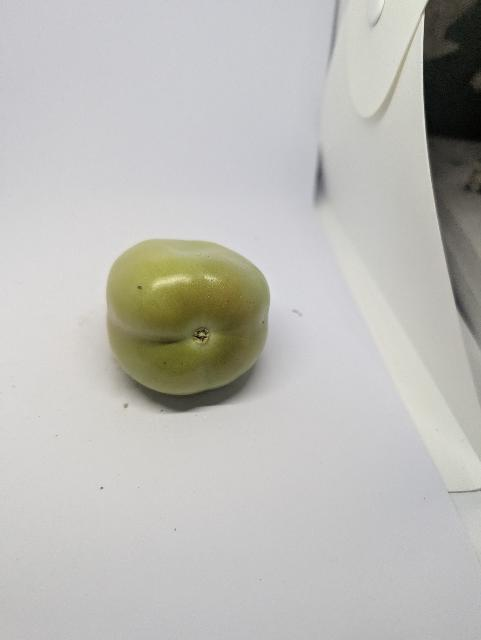green: (105, 236, 274, 398)
